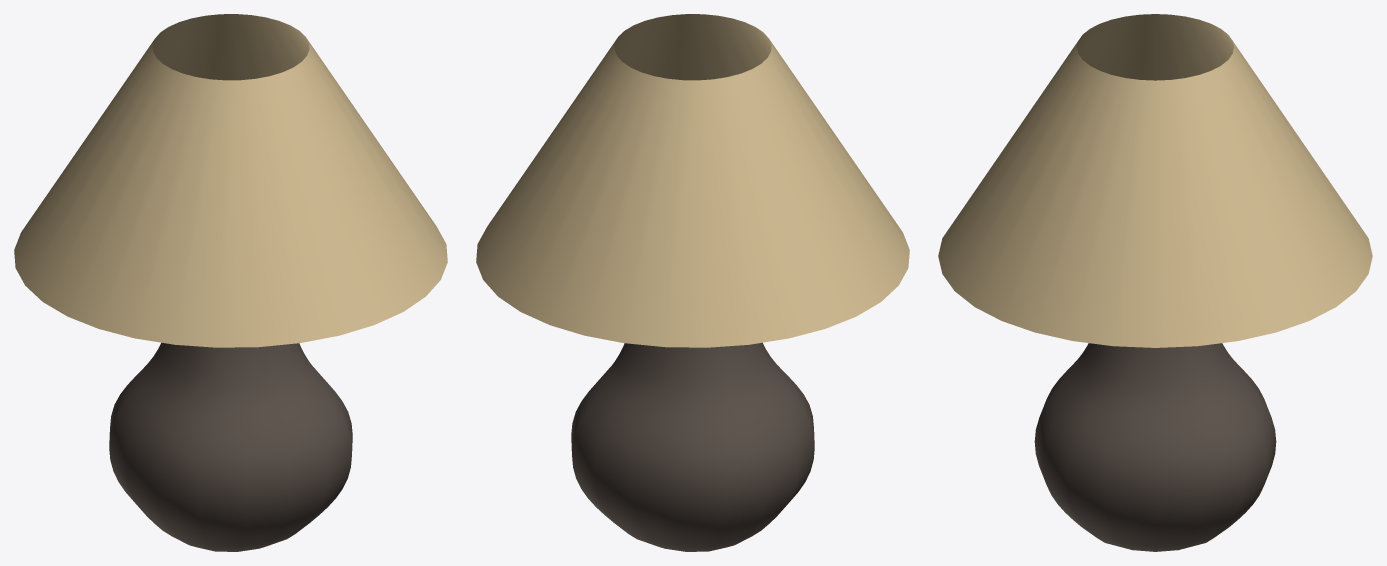
The model's file is lamp.fbx.
3 views of the same model, side by side, from view 1: azimuth 30°, elevation 25°; view 2: azimuth 150°, elevation 25°; view 3: azimuth 270°, elevation 25° (orthographic).
Visible parts, largest first — view 1: lamp; view 2: lamp; view 3: lamp.
Part boxes in pixels (bbox=[...]): lamp: bbox=[14, 14, 447, 551]; lamp: bbox=[476, 14, 909, 551]; lamp: bbox=[938, 14, 1372, 551].
Bounding box in the file's own units: 458 × 568 × 458.
